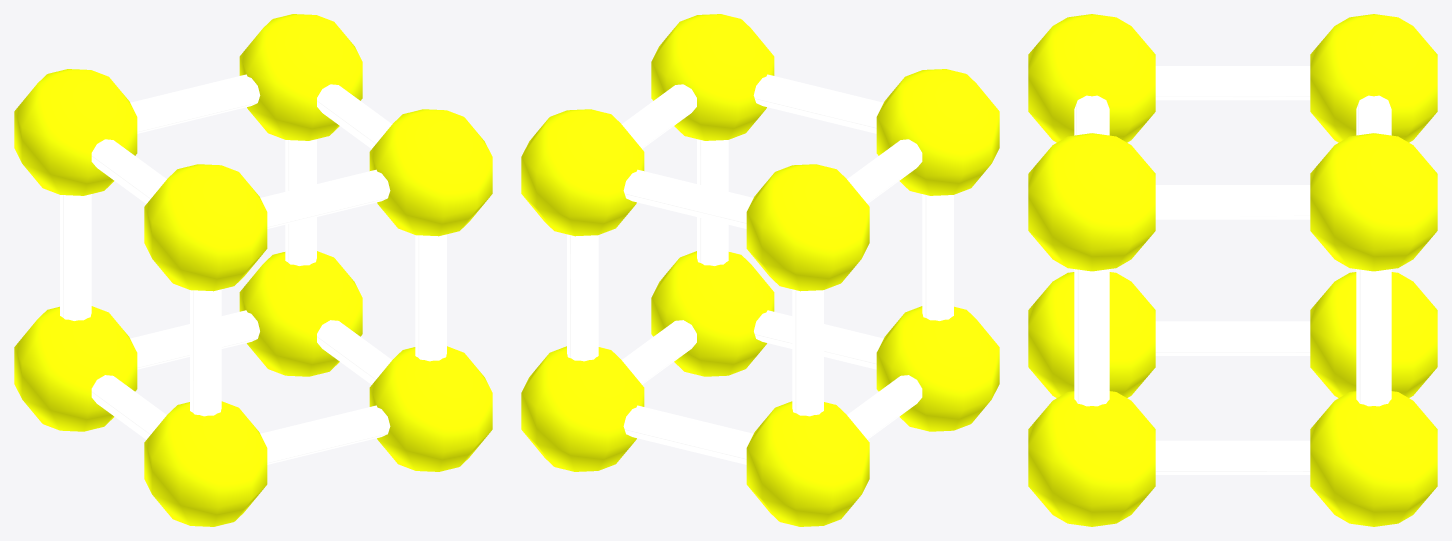
The model's file is Chemical-2.glb.
The picture shows the model from 3 angles, left to right: view 1: azimuth 30°, elevation 25°; view 2: azimuth 150°, elevation 25°; view 3: azimuth 270°, elevation 25°; orthographic projection. The views are drawn at different scales.
Visible parts, largest first — view 1: Chemical_2; view 2: Chemical_2; view 3: Chemical_2.
Boxes of the visible parts, left/top/right/bottom form: Chemical_2: left=14, top=14, right=492, bottom=526; Chemical_2: left=521, top=14, right=999, bottom=526; Chemical_2: left=1028, top=14, right=1437, bottom=526.
Bounding box in the file's own units: 0.059 × 0.06 × 0.0581.
1 material, 1 textured.
